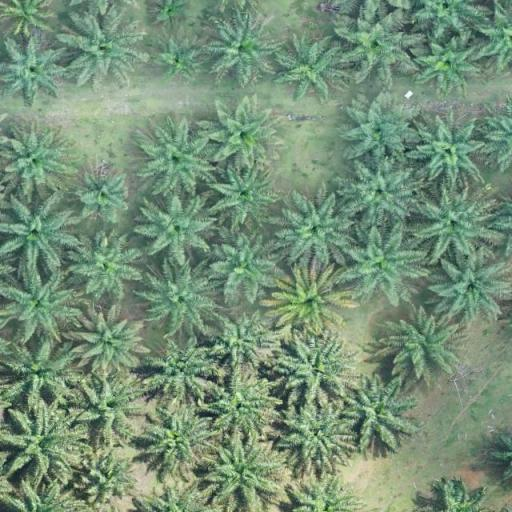Ganoderma: (288, 278, 336, 321)
